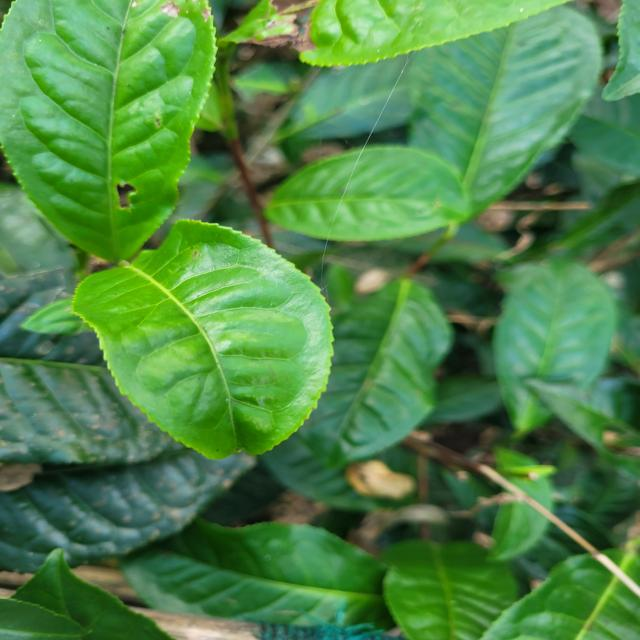Category D(7+ days, Not for Tea): (66, 218, 341, 461)
